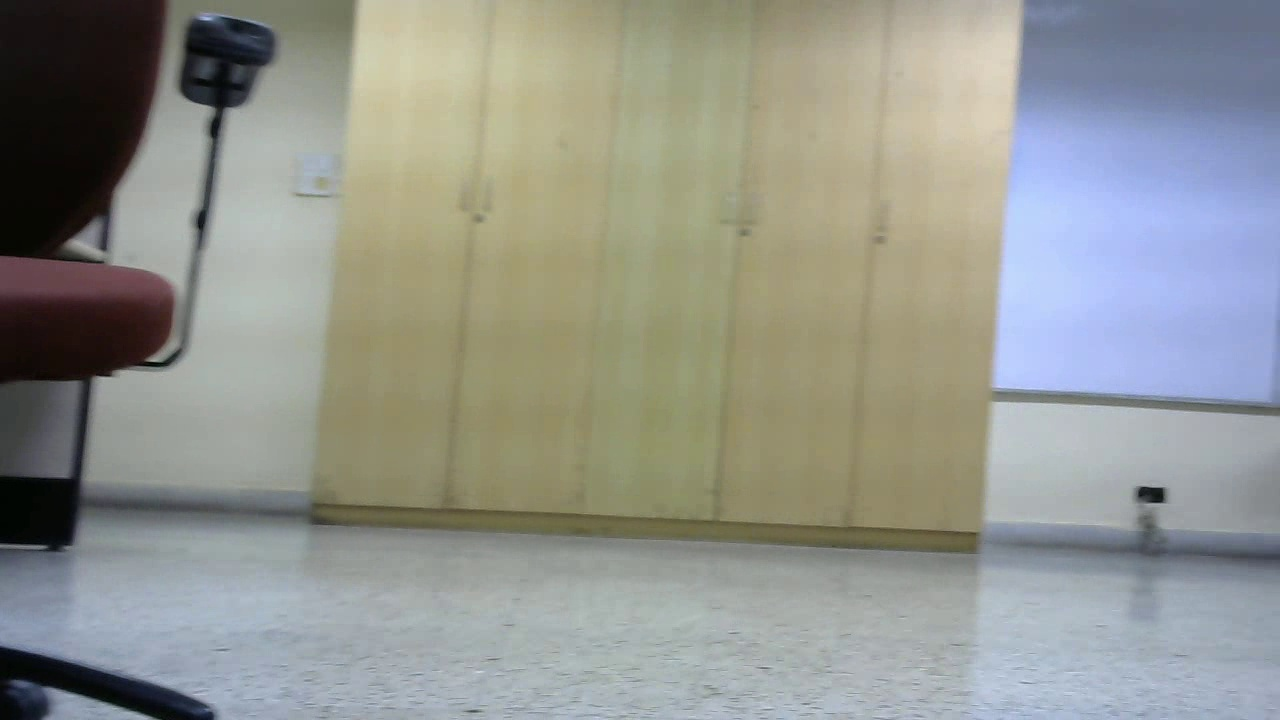chair: (711, 164, 1069, 623), (279, 136, 502, 549)
